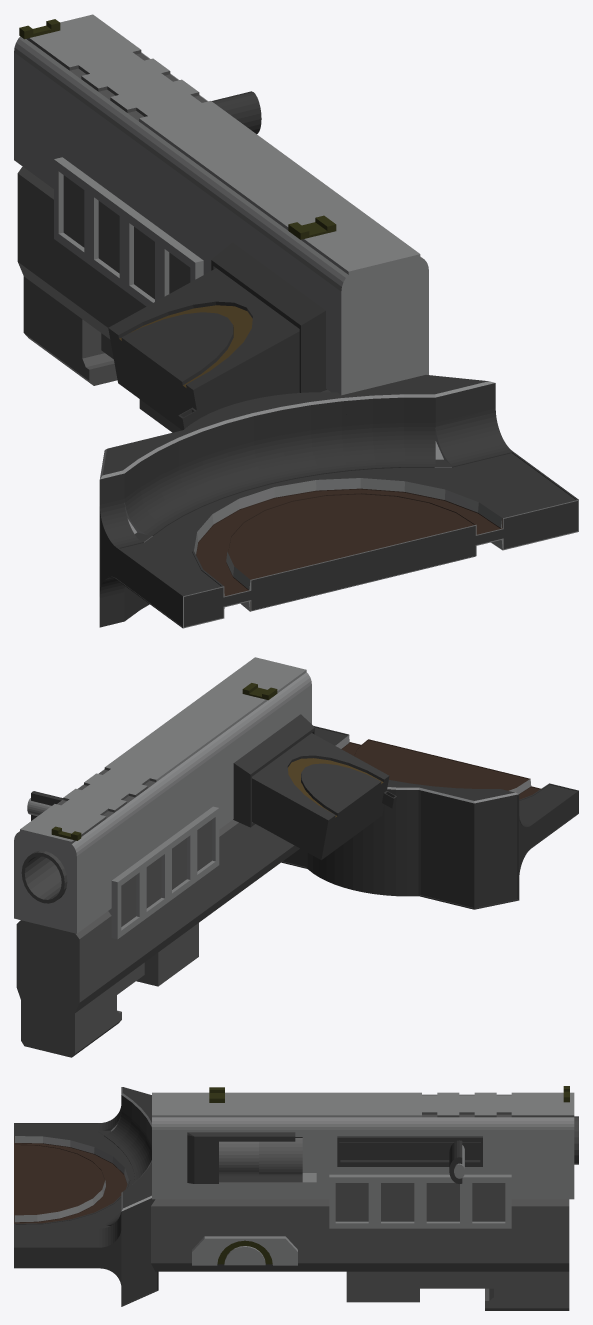
Rendered from 14mm_pistol.obj.
The picture shows the model from 3 angles, top to bottom: view 1: azimuth 30°, elevation 25°; view 2: azimuth 150°, elevation 25°; view 3: azimuth 270°, elevation 25°; orthographic projection. The views are drawn at different scales.
Visible parts, largest first — view 1: Mesh11, Mesh01, Group3, Group7, Group2, Group10; view 2: Mesh01, Mesh11, Group3, Group7, Group2, Group10; view 3: Mesh01, Mesh11, Group9, Group11, Group10, Group8.
Boxes of the visible parts, bbox=[...] form: Mesh11: bbox=[99, 375, 578, 628]; Mesh01: bbox=[14, 14, 428, 432]; Group3: bbox=[108, 268, 299, 430]; Group7: bbox=[54, 157, 203, 306]; Group2: bbox=[211, 242, 326, 392]; Group10: bbox=[212, 91, 261, 133]; Mesh01: bbox=[14, 657, 311, 1057]; Mesh11: bbox=[281, 726, 578, 909]; Group3: bbox=[252, 733, 396, 859]; Group7: bbox=[108, 806, 219, 939]; Group2: bbox=[233, 714, 314, 827]; Group10: bbox=[27, 791, 63, 820]; Mesh01: bbox=[151, 1092, 578, 1310]; Mesh11: bbox=[14, 1087, 158, 1306]; Group9: bbox=[329, 1174, 511, 1228]; Group11: bbox=[187, 1132, 302, 1183]; Group10: bbox=[337, 1136, 482, 1183]; Group8: bbox=[192, 1236, 297, 1265].
Bounding box in the file's own units: 1.03 × 0.7307 × 1.86.
